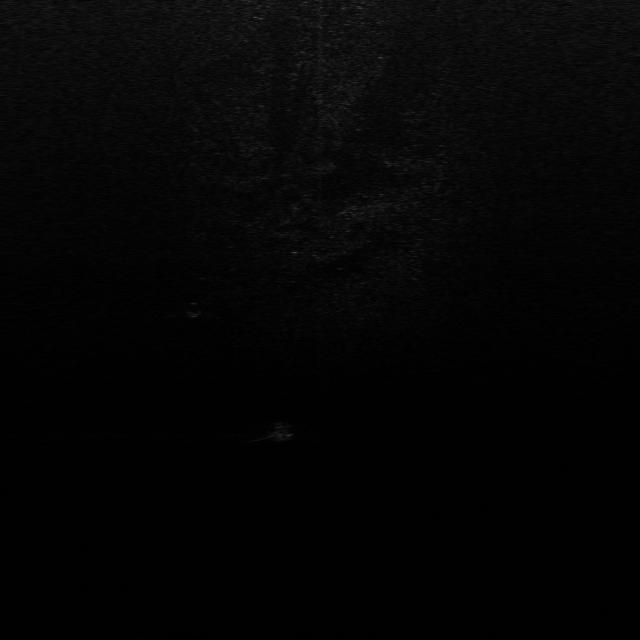ball: (266, 422, 296, 442)
circle cage: (186, 302, 204, 316)
